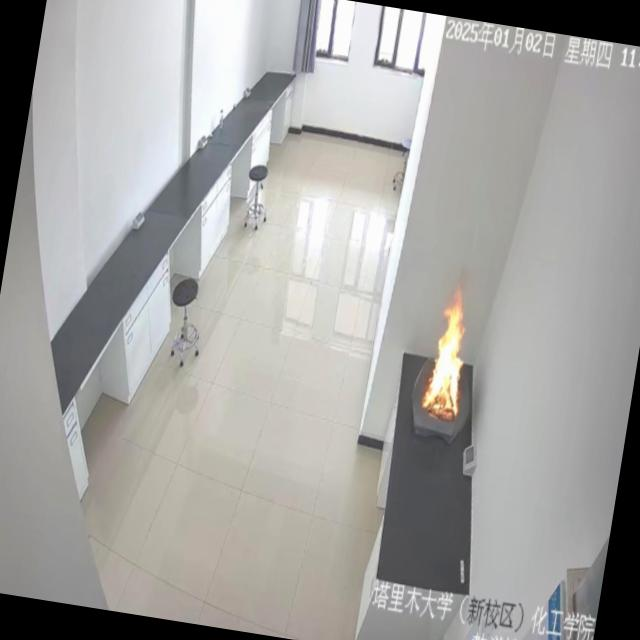fire: (398, 244, 516, 450)
